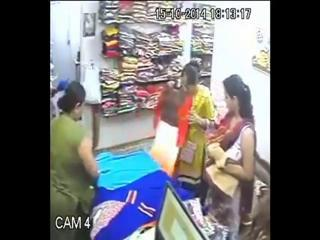Normal: (200, 74, 256, 240), (50, 81, 99, 239), (173, 61, 218, 186), (150, 72, 186, 178)
